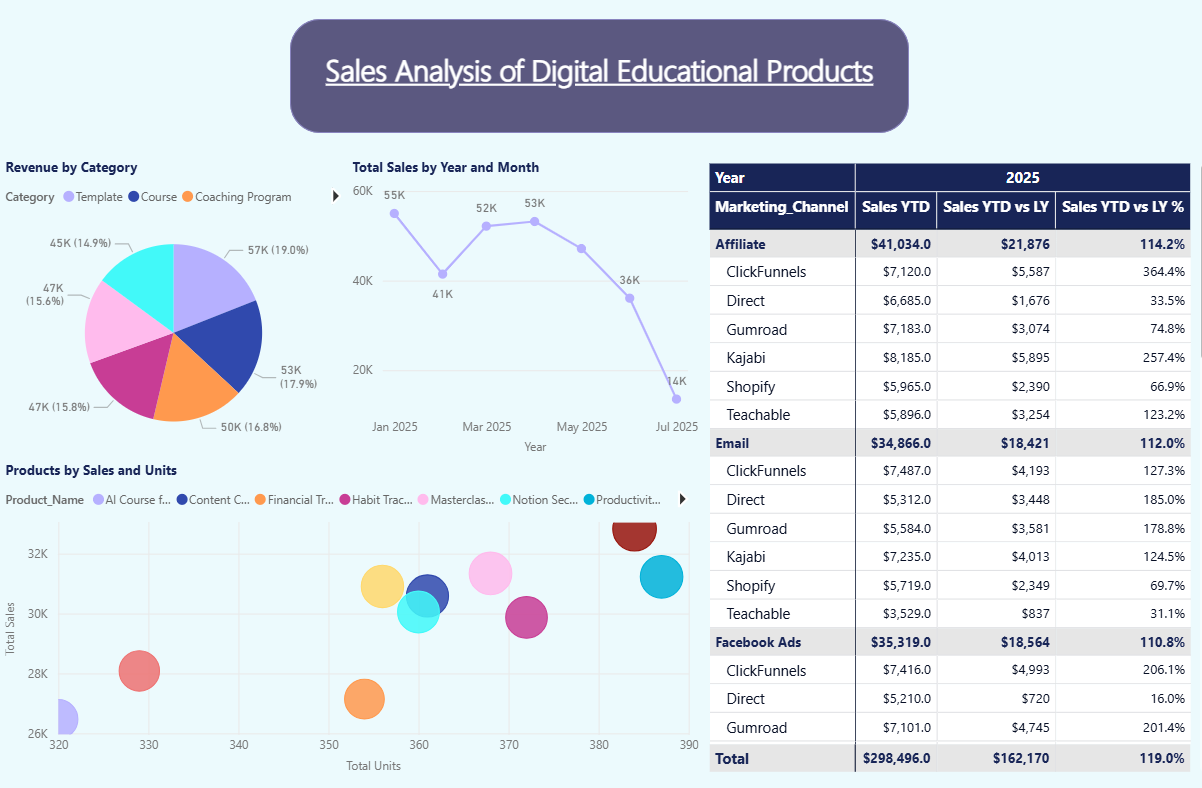

The dashboard page shown, as its layout file describes it:
{"tool":"powerbi","page":{"name":"Sales & Revenue Performance","canvas":[1100,720],"ordinal":0},"visuals":[{"type":"shape","box":[263.6,17.3,562.7,103.6],"z":0},{"type":"pieChart","fields":{"Category":["Sheet1.Category"],"Y":["Sum(Sheet1.Revenue)"]},"box":[0,143.6,315.5,274.5],"z":1000},{"type":"lineChart","fields":{"Category":["Calendar.Date.Variation.Date Hierarchy.Year","Calendar.Date.Variation.Date Hierarchy.Month"],"Y":["Sheet1.Total Sales"]},"box":[315.5,143.6,324.5,274.5],"z":2000},{"type":"pivotTable","fields":{"Rows":["Sheet1.Marketing_Channel","Sheet1.Platform"],"Columns":["Calendar.Date.Variation.Date Hierarchy.Year","Calendar.Date.Variation.Date Hierarchy.Month"],"Values":["Sheet1.Sales YTD","Sheet1.Sales YTD vs LY","Sheet1.Sales YTD vs LY %"]},"box":[640,143.6,465.5,562.7],"z":3000},{"type":"textbox","box":[280.9,40,528.2,57.3],"z":5001},{"type":"scatterChart","title":"Products by Sales and Units","fields":{"Series":["Data.Product_Name"],"Y":["Data.Total Sales"],"X":["Data.Total Units"],"Size":["Data.Total Sales"]},"box":[0,419.1,640,288.2],"z":5002}]}

Visuals, with their boxes in screenshot pixels (x1, y1, x2, y2), scaled from the page's 1100x720 canvas onto the 1202x788 screenshot:
shape: locate(288, 19, 903, 132)
pieChart - Sheet1.Category x Sum(Sheet1.Revenue): locate(0, 157, 345, 458)
lineChart - Calendar.Date.Variation.Date Hierarchy.Year x Calendar.Date.Variation.Date Hierarchy.Month: locate(345, 157, 699, 458)
pivotTable - Sheet1.Marketing_Channel x Sheet1.Platform: locate(699, 157, 1201, 773)
textbox: locate(307, 44, 884, 106)
"Products by Sales and Units" scatterChart: locate(0, 459, 699, 774)
